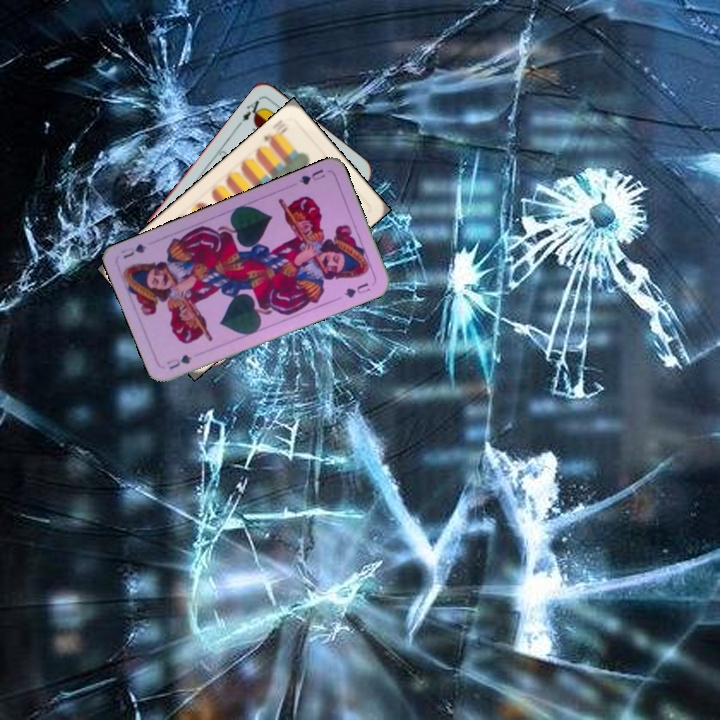E10: (259, 115, 291, 148)
EA: (238, 94, 266, 124)
GU: (295, 165, 328, 187), (163, 350, 195, 372)
